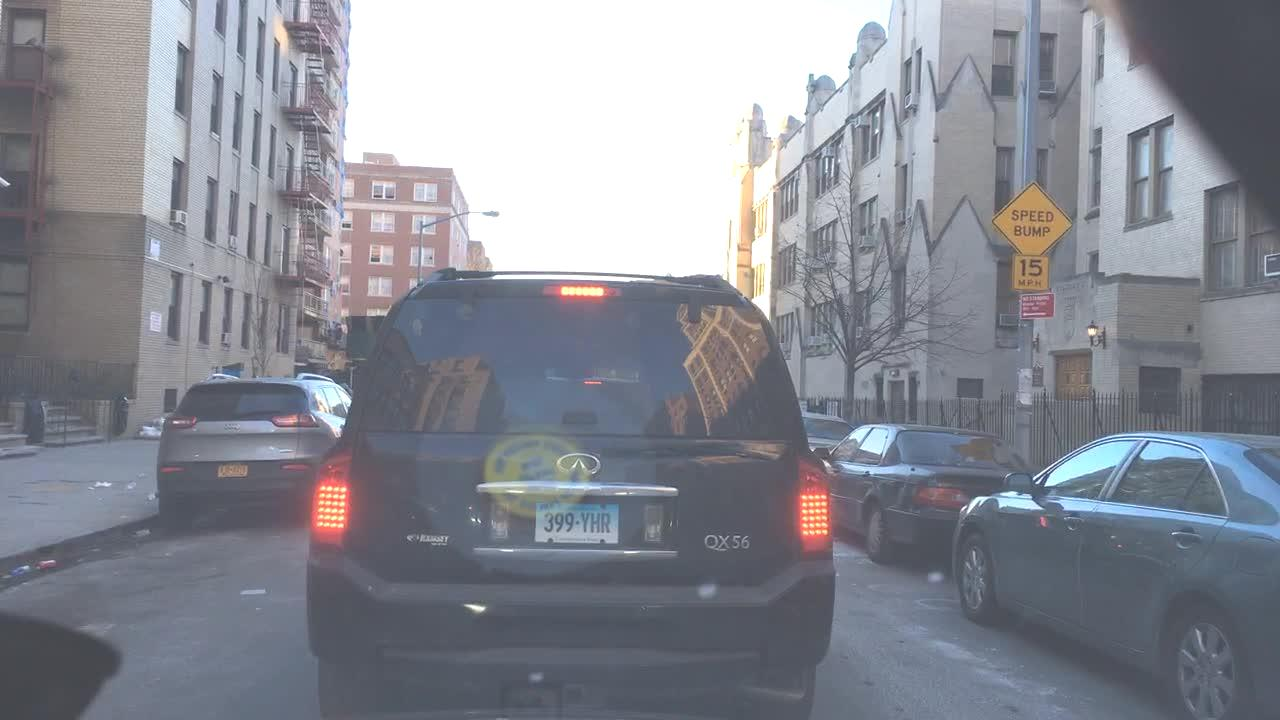Infiniti: (547, 442, 616, 486)
